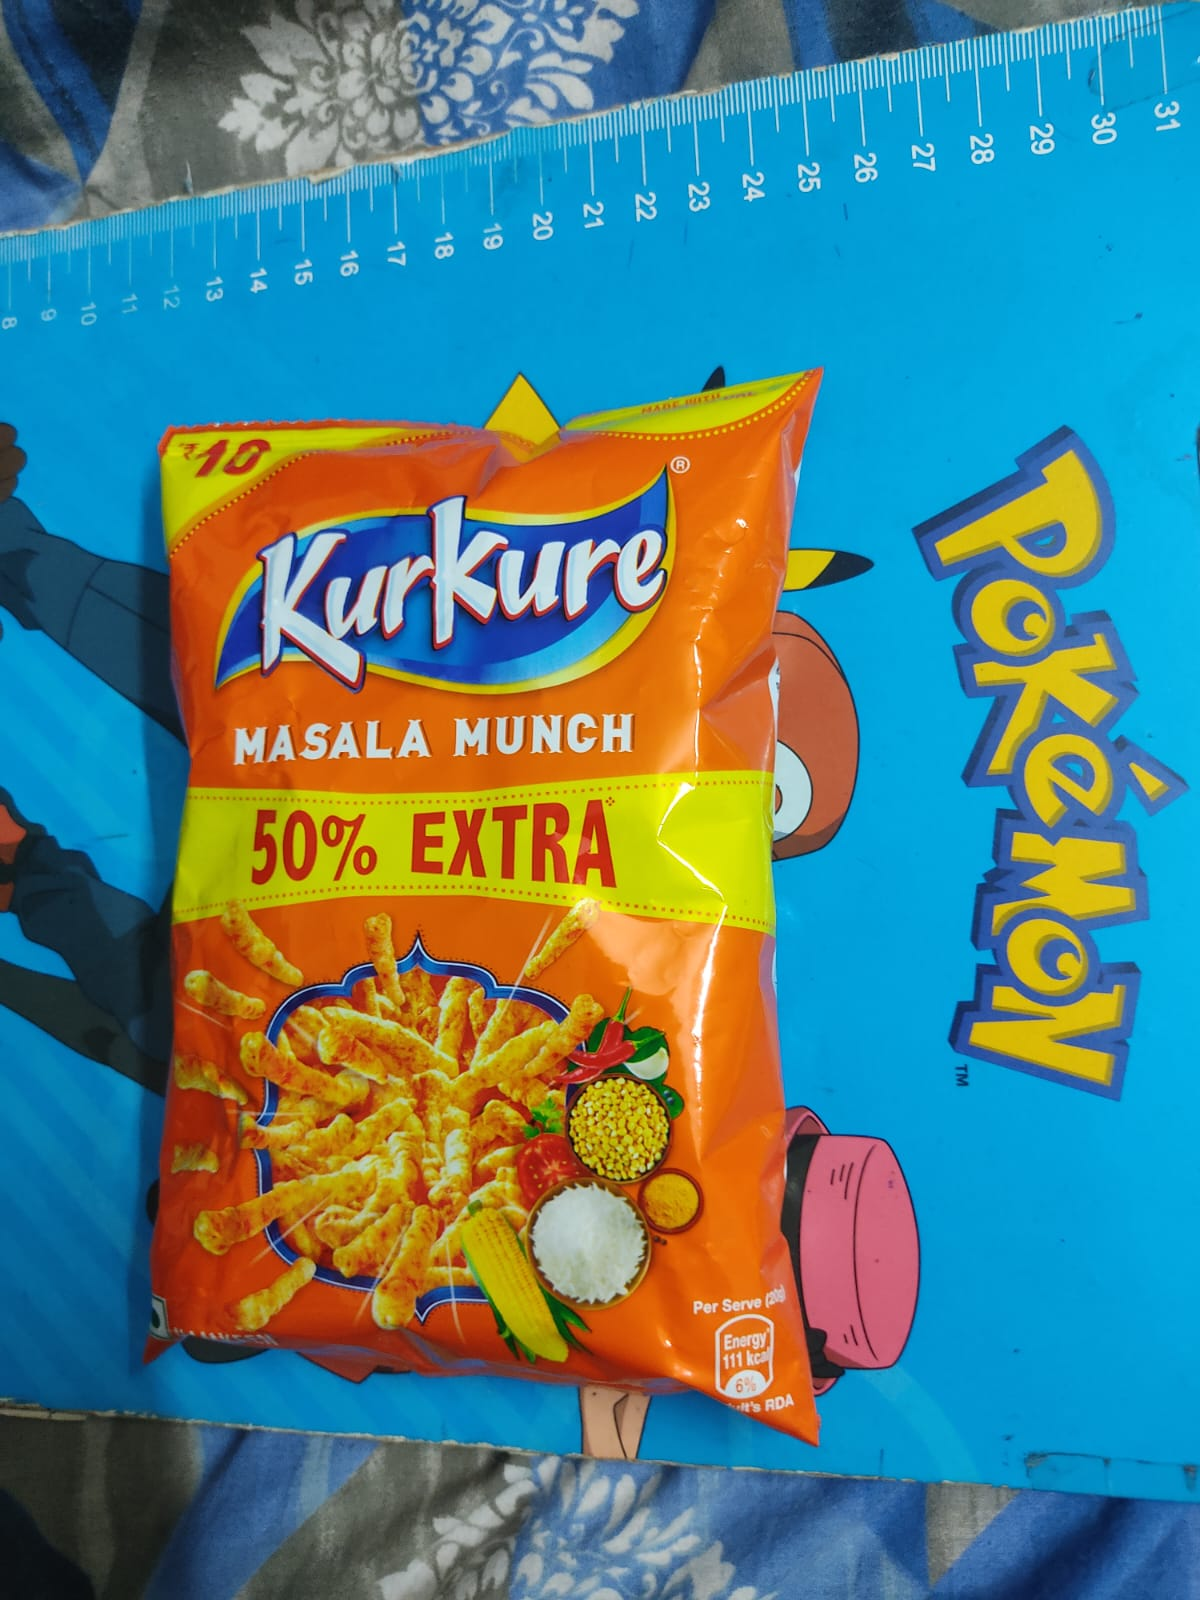010_Kurkure: (156, 426, 794, 1371)
